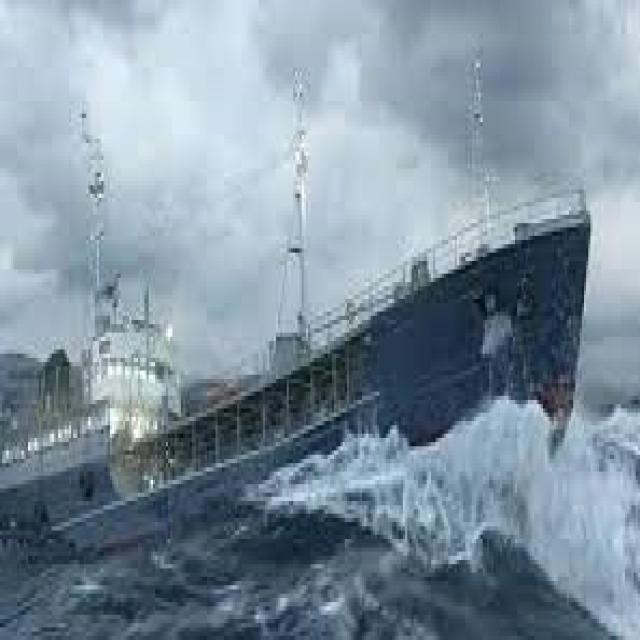cargoship: (20, 135, 588, 477)
